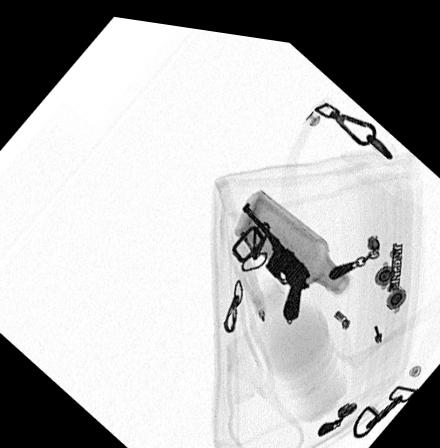Gun: (239, 191, 312, 312)
